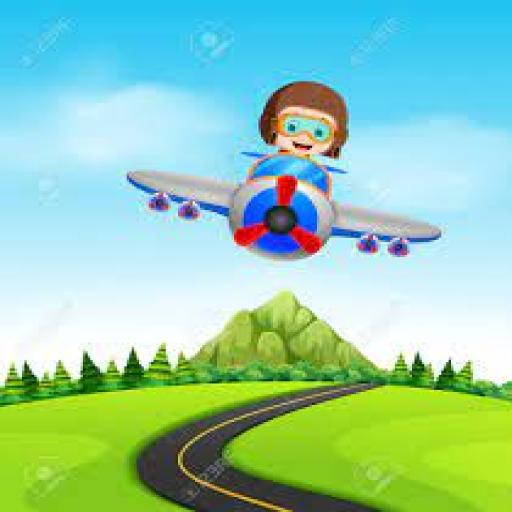person: (230, 74, 368, 180)
